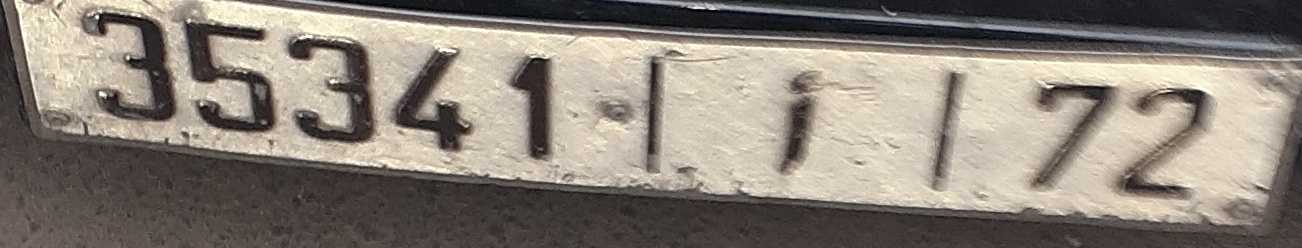1: (507, 53, 559, 165)
2: (1122, 85, 1219, 203)
3: (77, 8, 178, 126), (286, 31, 378, 148)
4: (390, 43, 474, 160)
5: (183, 19, 276, 139)
7: (1024, 80, 1119, 195)
a: (775, 66, 824, 179)
